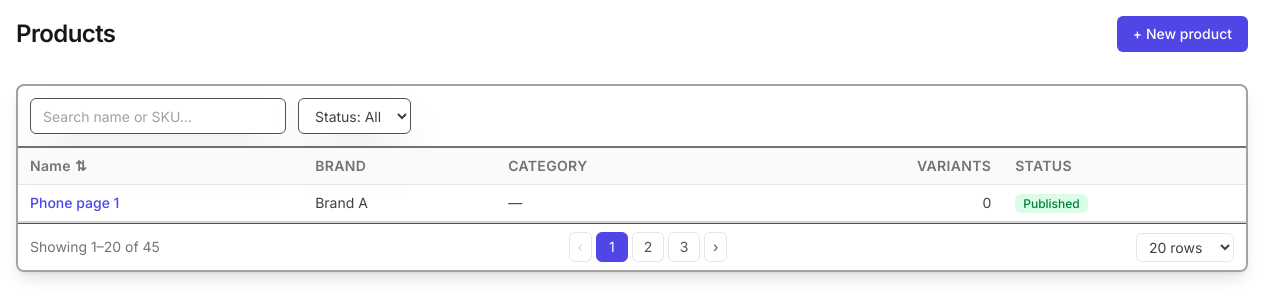
ProductsPage › navigates to the next page via the footer
Expected: the link "Phone page 1" is shown, [30,194,119,211]
What coordinates should you click on to do the following:
click the button named "Next page"
I would click on:
 (716, 247)
Its box is [704,232,727,262].
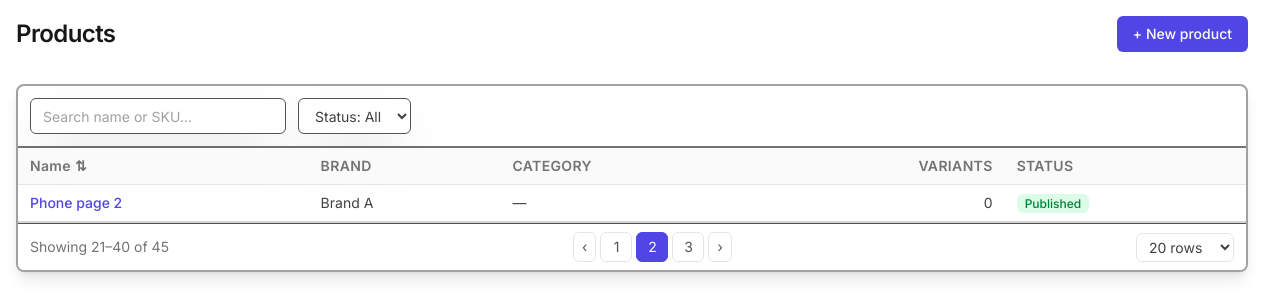
Result: the link "Phone page 2" is shown at [30,194,122,211]
